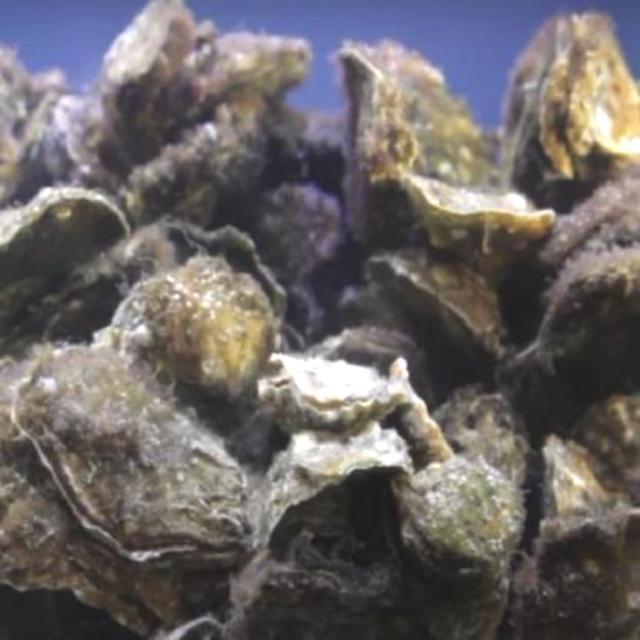Oyster-Closed: (0, 354, 236, 623), (336, 38, 488, 244), (105, 262, 281, 404), (503, 270, 638, 443), (509, 14, 638, 187), (359, 241, 508, 371), (258, 429, 418, 544), (402, 174, 554, 291), (396, 463, 524, 584), (176, 31, 318, 122), (528, 432, 631, 556), (260, 354, 412, 436), (228, 185, 340, 285), (575, 393, 638, 513), (97, 0, 183, 84)
Oyster-Open: (15, 348, 249, 576), (129, 215, 303, 356)
